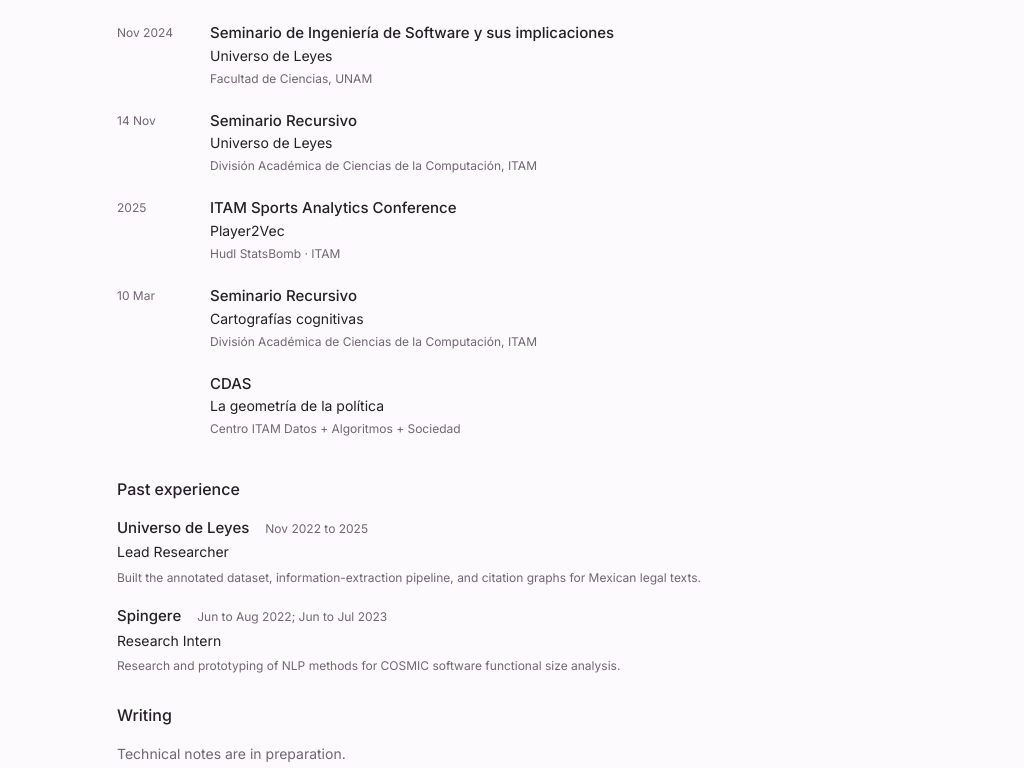
MAKERS additions › connects the CDAS talk to Congreso in the graph and in both detail views
(page scrolled)
Focus the button "CDAS": (231, 384) [210,373,252,395]
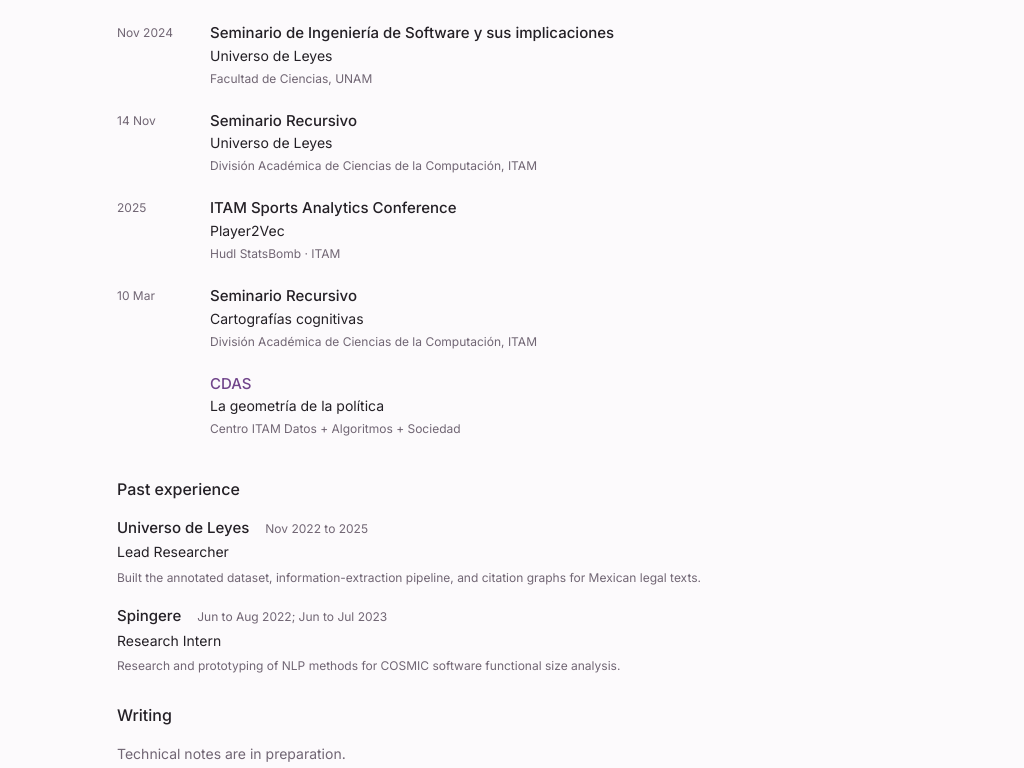
Click the button "CDAS": (231, 384) [210,373,252,395]
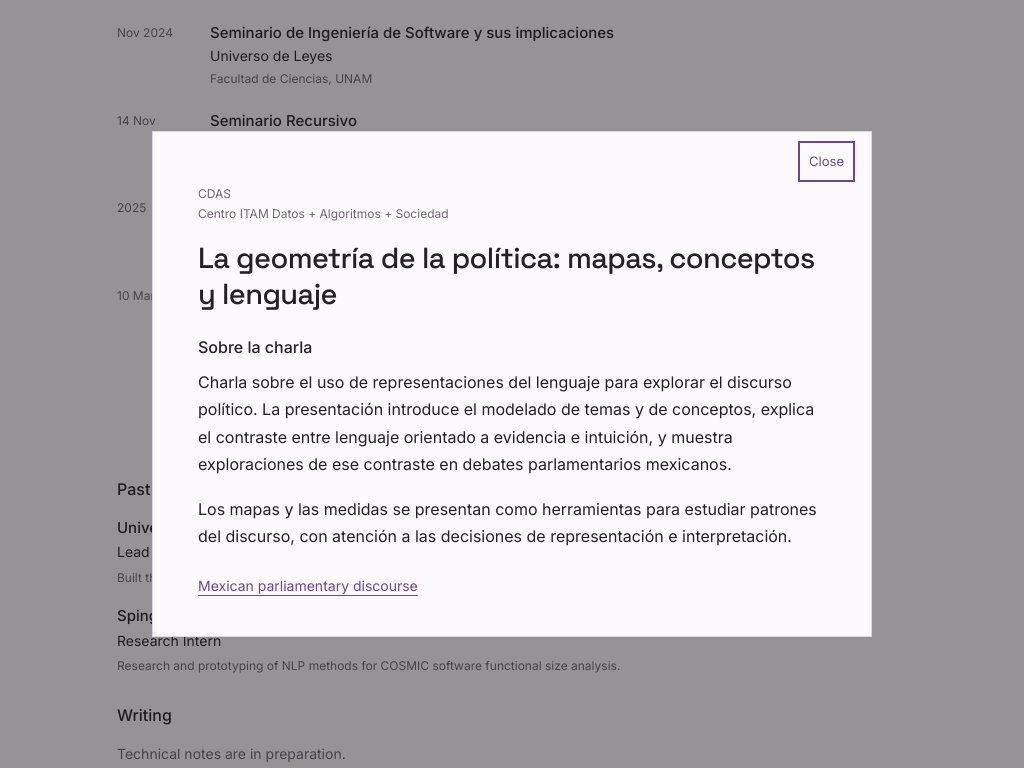
Expected: the heading "La geometría de la política: mapas, conceptos y lenguaje" is shown, [198,240,826,312]
Expected: the heading "Sobre la charla" is shown, [198,337,312,357]
Click the button "Mexican parliamentary discourse": (308, 586) [198,574,418,598]
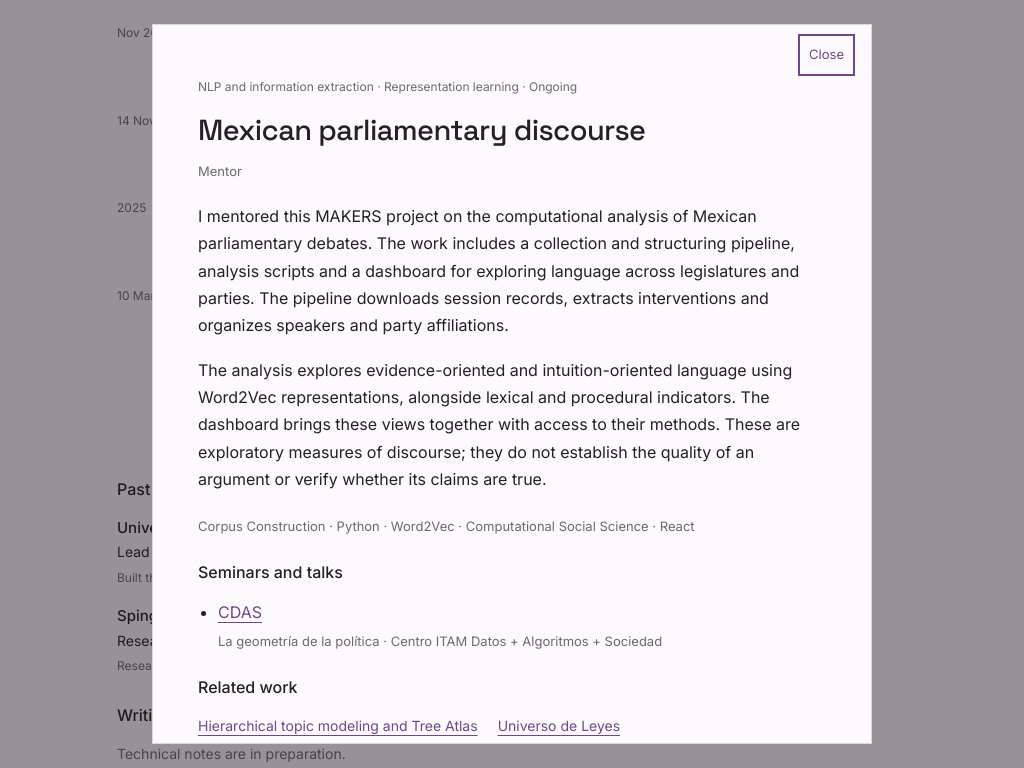
Click the button "CDAS": (240, 613) [218,599,262,626]
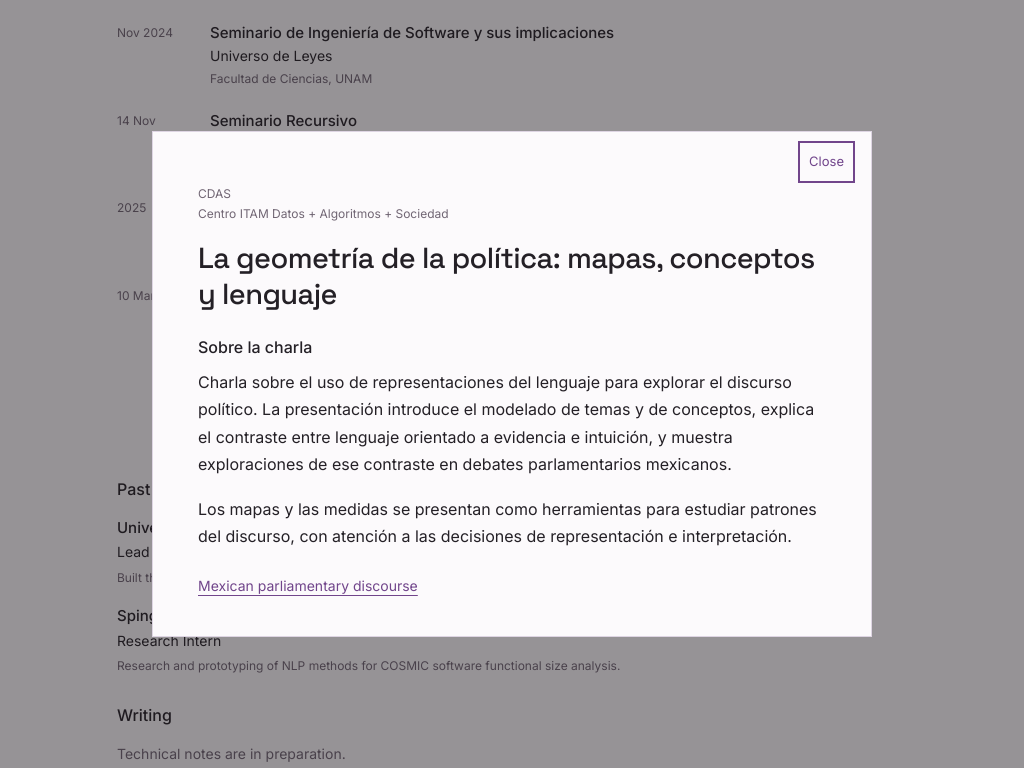
Expected: the heading "La geometría de la política: mapas, conceptos y lenguaje" is shown, [198,240,826,312]
